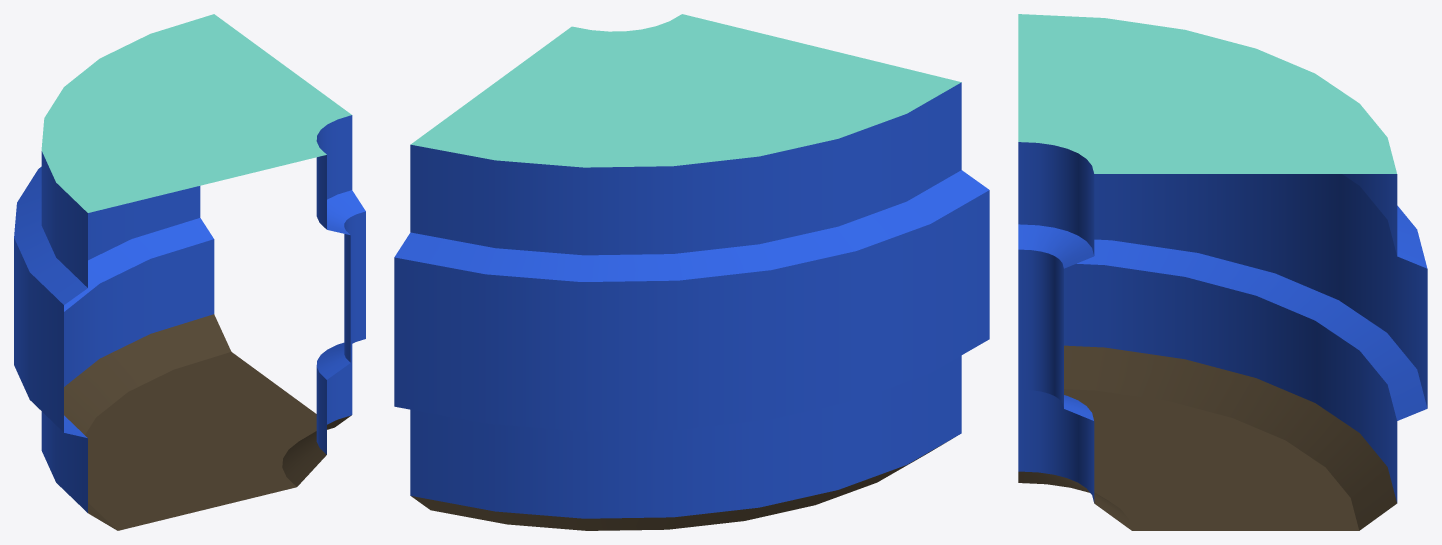
Rendered from Corner_Curve.fbx.
3 views of the same model, side by side, from view 1: azimuth 30°, elevation 25°; view 2: azimuth 150°, elevation 25°; view 3: azimuth 270°, elevation 25° (orthographic). The views are drawn at different scales.
Parts seen in each view (by area): view 1: Corner_Curve; view 2: Corner_Curve; view 3: Corner_Curve.
Part boxes in pixels (left/top/right/bottom): Corner_Curve: left=14, top=14, right=365, bottom=530; Corner_Curve: left=394, top=14, right=989, bottom=530; Corner_Curve: left=1018, top=14, right=1427, bottom=530.
Bounding box in the file's own units: 2.7 × 2.6 × 2.7.
